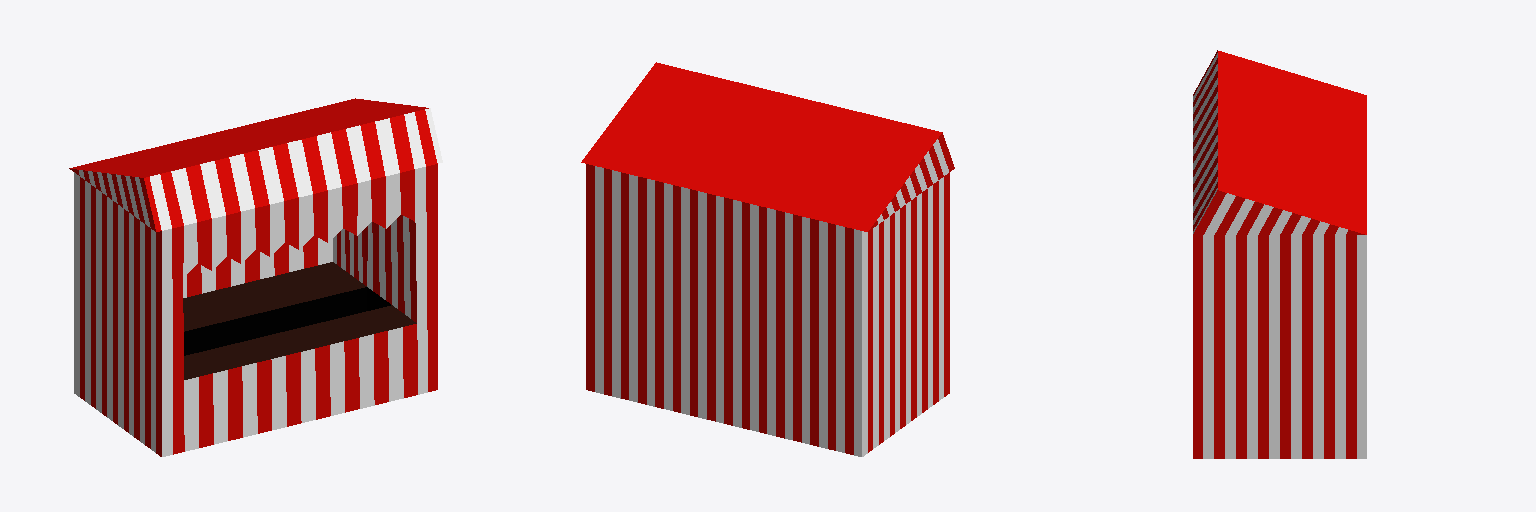
The picture shows the model from 3 angles: view 1: azimuth 30°, elevation 25°; view 2: azimuth 150°, elevation 25°; view 3: azimuth 270°, elevation 25°; orthographic projection.
Parts seen in each view (by area): view 1: group[number redacted]; view 2: group[number redacted]; view 3: group[number redacted].
Boxes of the visible parts, box(x1,y1,x2,y2) form: group[number redacted]: box(69, 98, 442, 456); group[number redacted]: box(581, 62, 954, 456); group[number redacted]: box(1193, 50, 1366, 458).
Bounding box in the file's own units: 0.53 × 0.48 × 0.28.